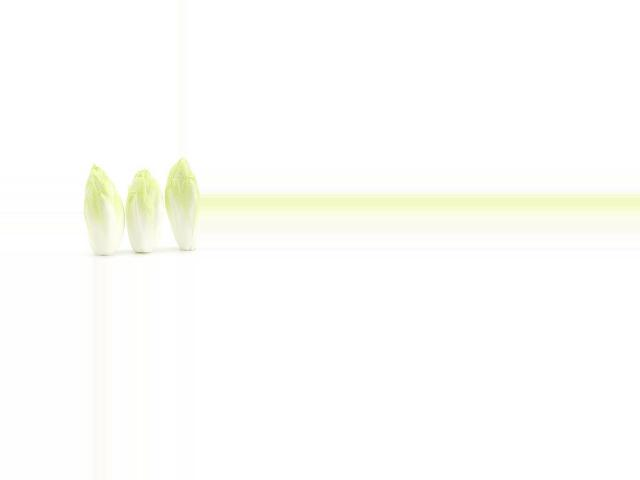lettuce: (83, 162, 123, 259)
